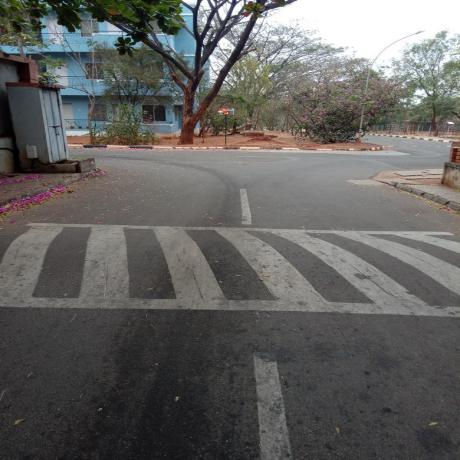Speed Bump: (0, 224, 460, 317)
